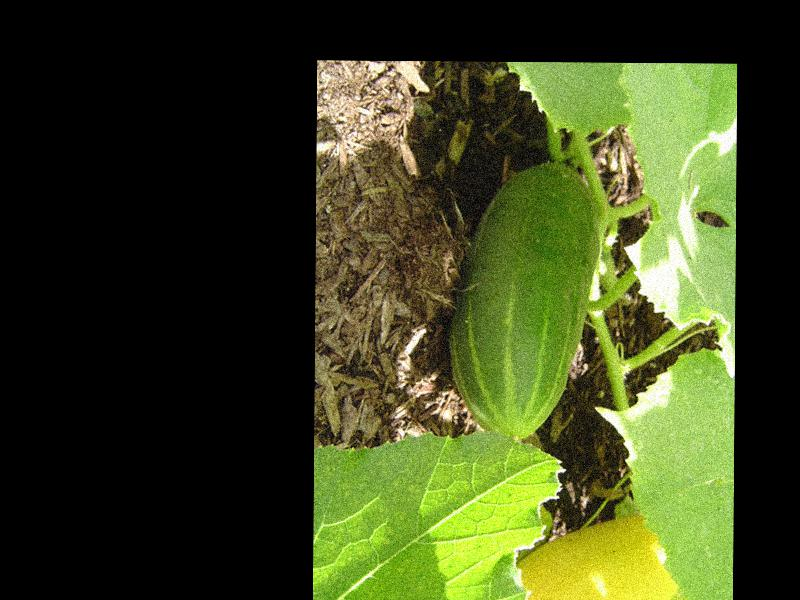Cucumber: (447, 160, 601, 440)
